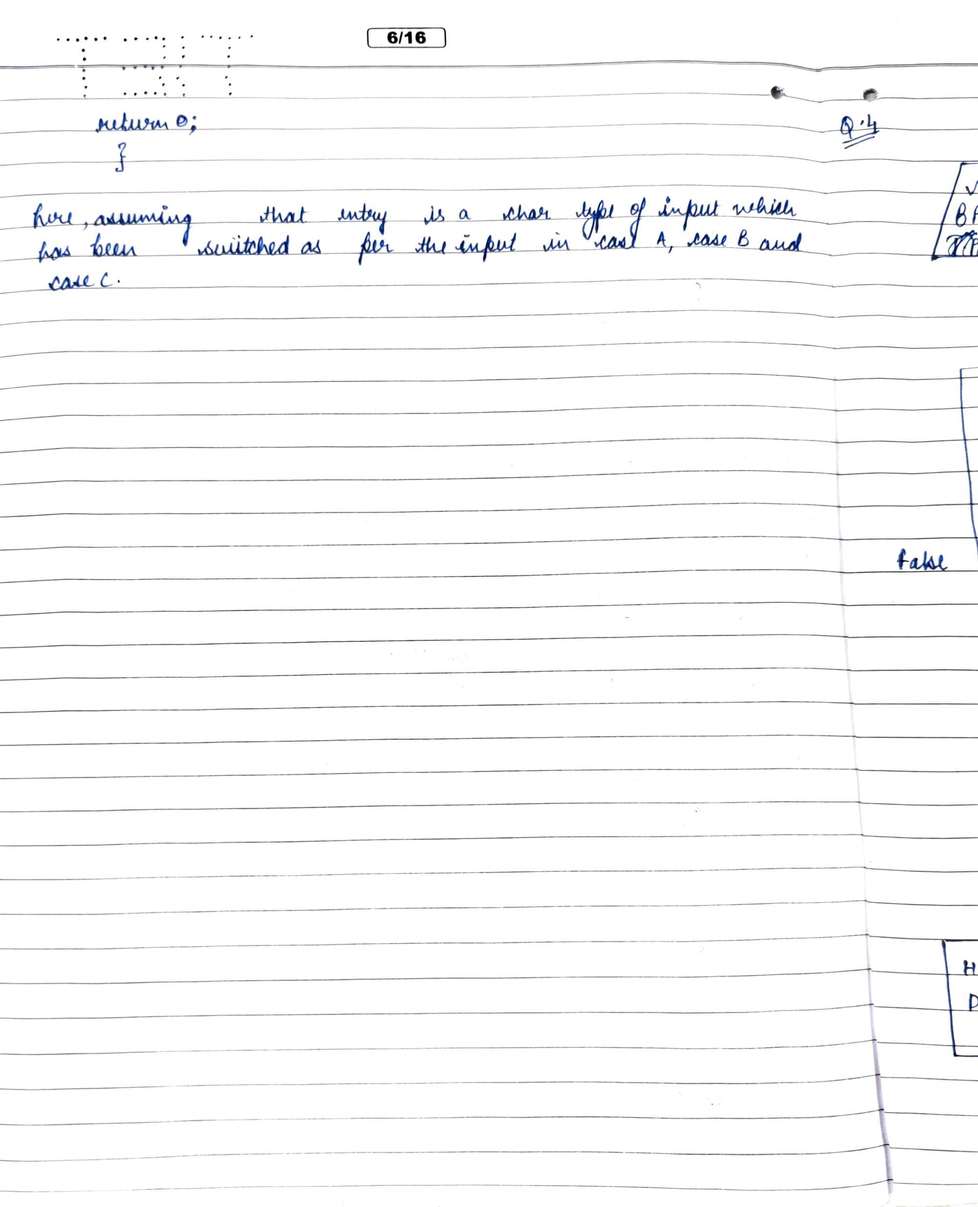cuttings: (944, 229, 977, 259)
